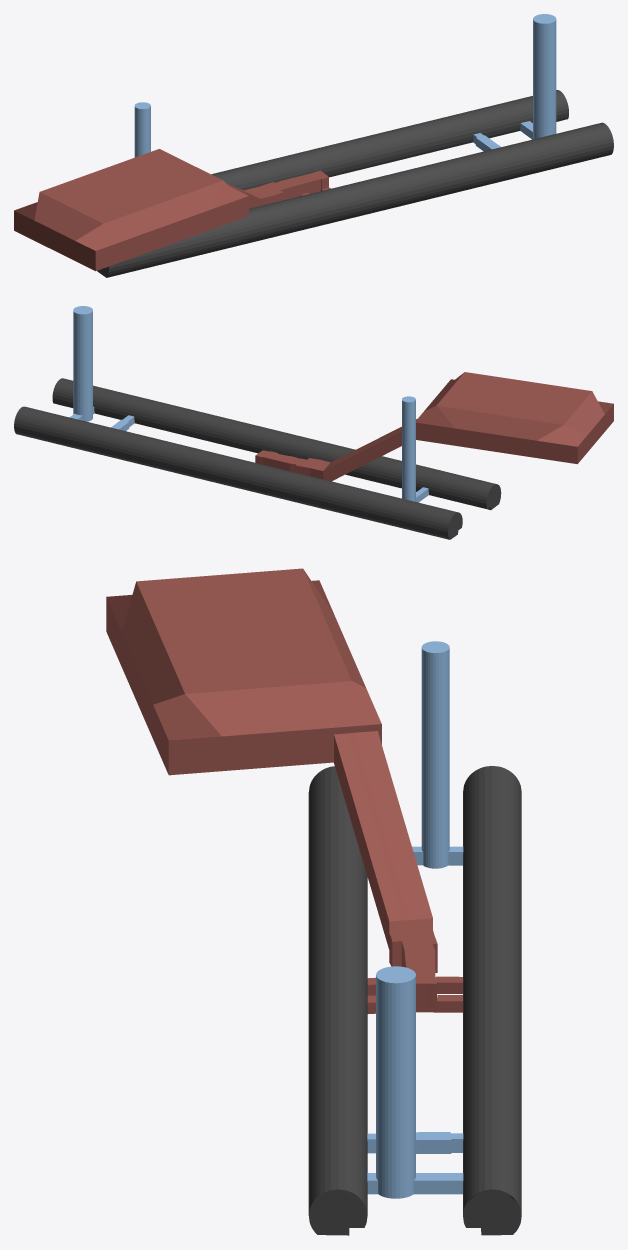
3 renders of one model, top to bottom at view 1: azimuth 30°, elevation 25°; view 2: azimuth 150°, elevation 25°; view 3: azimuth 270°, elevation 25°, orthographic. The views are drawn at different scales.
Visible parts, largest first — view 1: TicketHall, PLT1, PLT2, 15, Concourse, 22; view 2: PLT2, TicketHall, PLT1, 15, 22, ESC, Concourse; view 3: TicketHall, PLT2, PLT1, 15, ESC, 22, Concourse, 33.
Part boxes in pixels (bbox=[...]): TicketHall: bbox=[14, 149, 248, 271]; PLT1: bbox=[97, 122, 613, 277]; PLT2: bbox=[211, 90, 568, 190]; 15: bbox=[520, 14, 556, 139]; Concourse: bbox=[244, 170, 328, 205]; 22: bbox=[134, 102, 150, 157]; PLT2: bbox=[14, 406, 462, 539]; TicketHall: bbox=[416, 372, 613, 464]; PLT1: bbox=[52, 378, 501, 509]; 15: bbox=[69, 306, 94, 421]; 22: bbox=[402, 396, 428, 502]; ESC: bbox=[323, 419, 416, 481]; Concourse: bbox=[255, 450, 330, 479]; TicketHall: bbox=[106, 568, 381, 775]; PLT2: bbox=[463, 766, 521, 1235]; PLT1: bbox=[308, 766, 367, 1235]; 15: bbox=[367, 966, 463, 1198]; ESC: bbox=[334, 731, 432, 949]; 22: bbox=[412, 641, 463, 868]; Concourse: bbox=[389, 918, 437, 1012]; 33: bbox=[367, 1132, 463, 1153].
Size of the model in its own units: 186 by 38.67 by 65.05.
